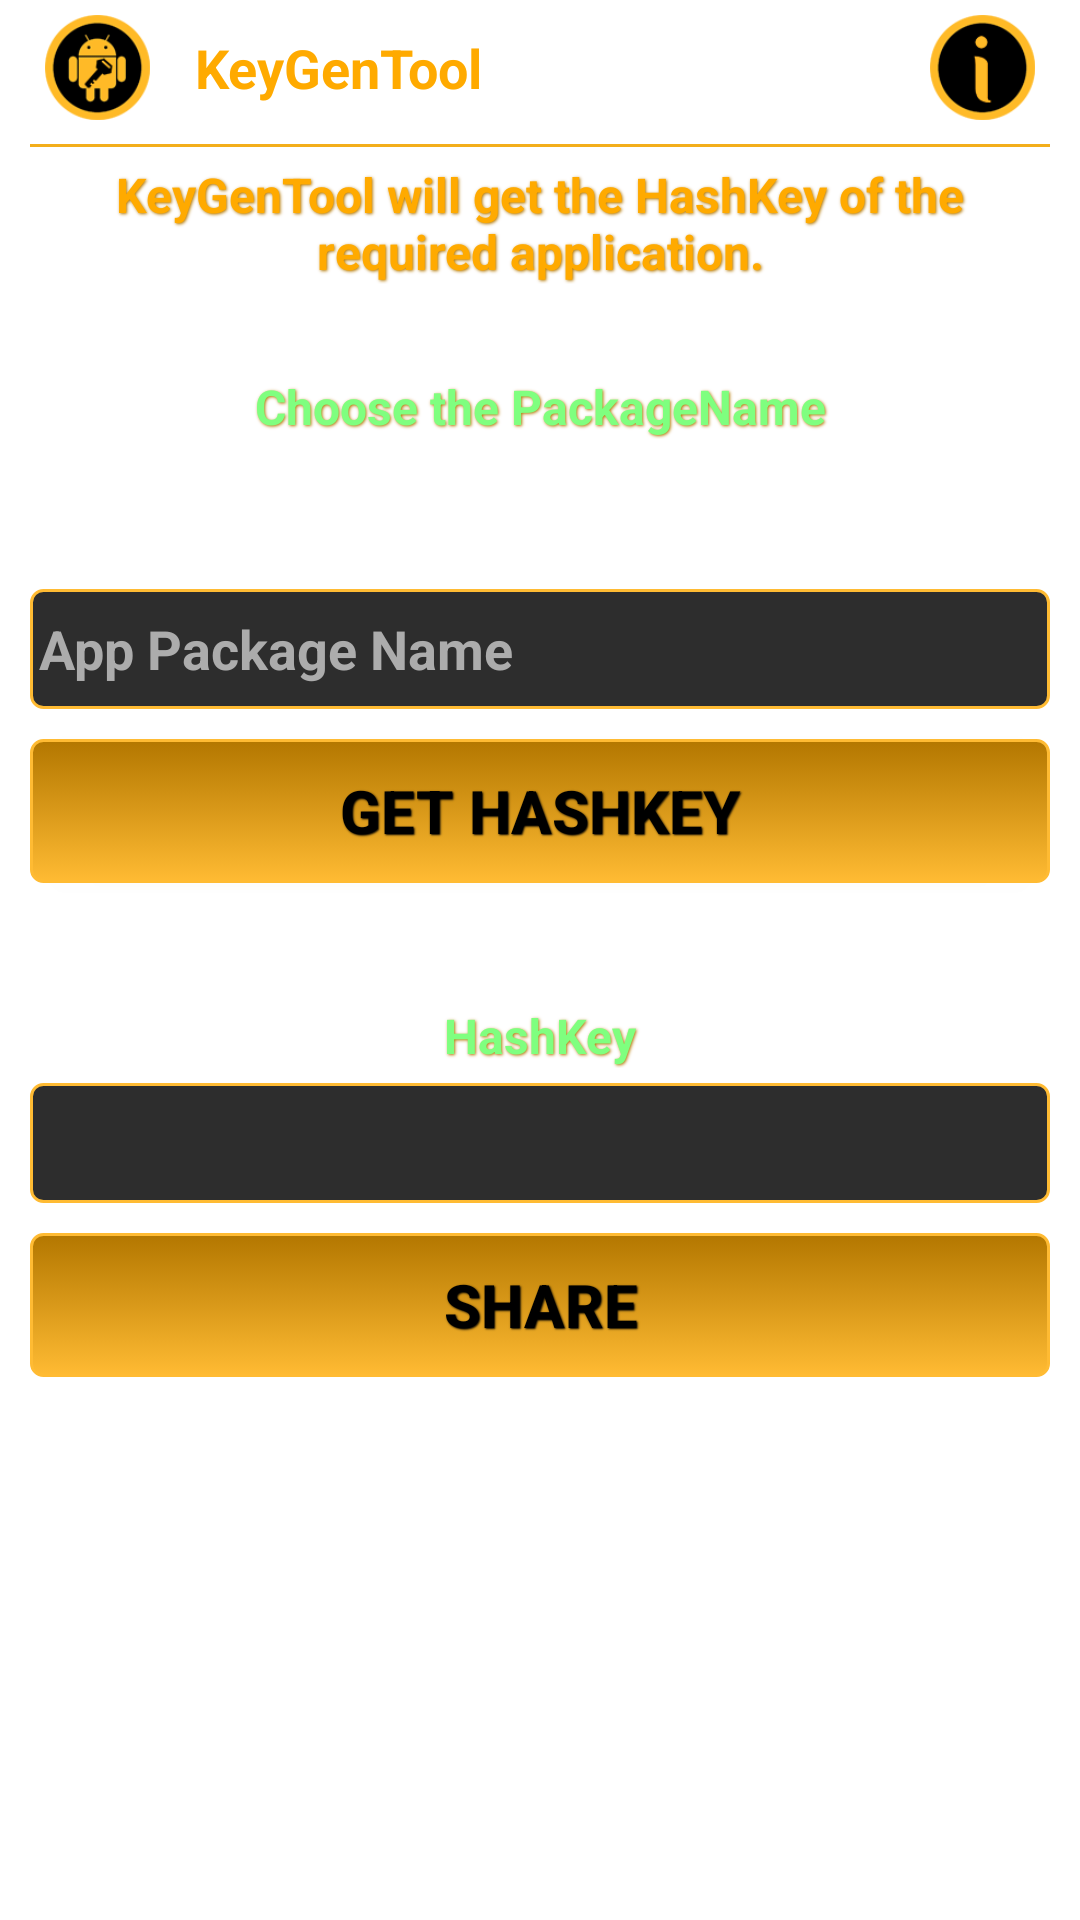

Point at icon controls on the screen. Image size 1080px x 1920px, points as [x,y].
info: [982,67]
